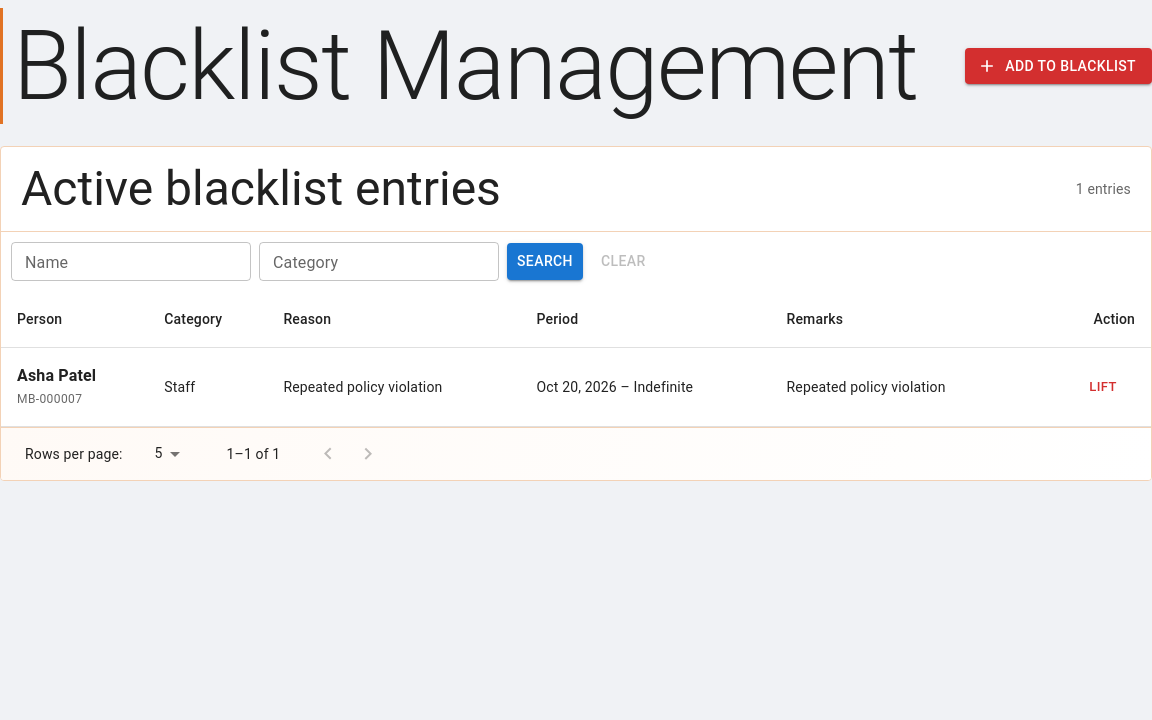
Test: lifts an active entry and removes it from the active blacklist list
Expected: the text "Asha Patel" is shown, [17,366,96,385]
Click the button "Lift" at (1103, 387), box [1071,372,1135,402]
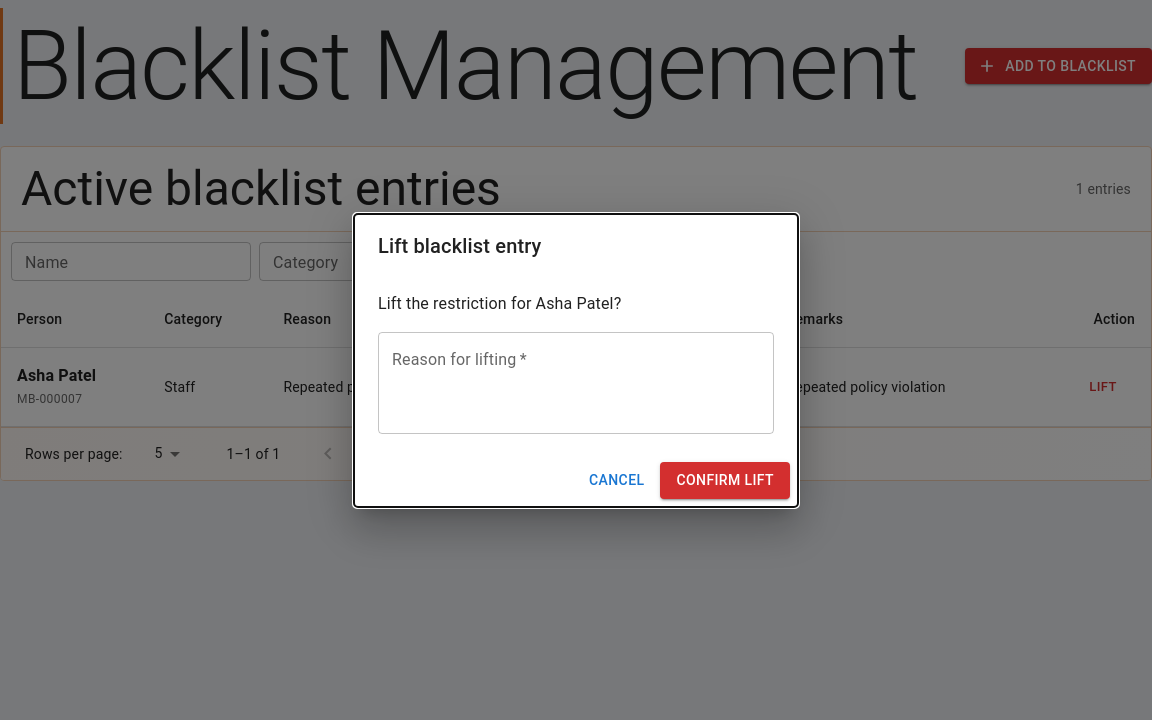
Type "Reviewed by Security" into the text box labelled "Reason for lifting" at (576, 383), box [392,348,760,417]
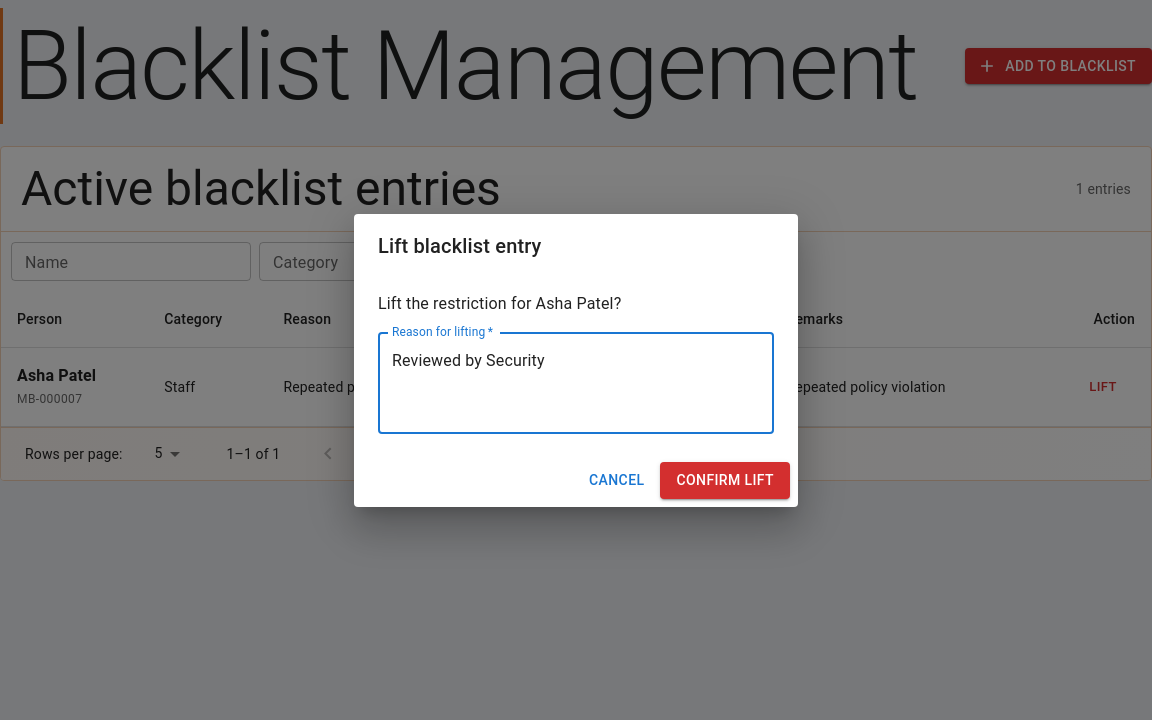
Click the button "Confirm lift" at (725, 480), box [660,462,790,498]
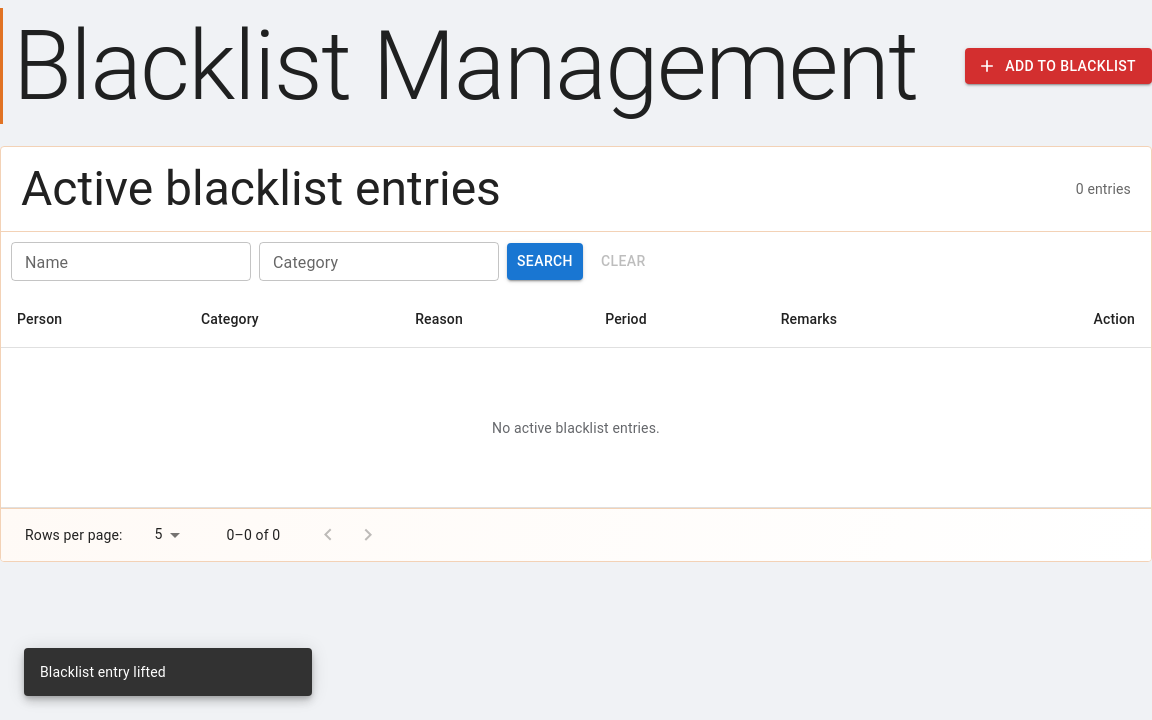
Expected: the text "No active blacklist entries." is shown, [1,348,1151,508]
